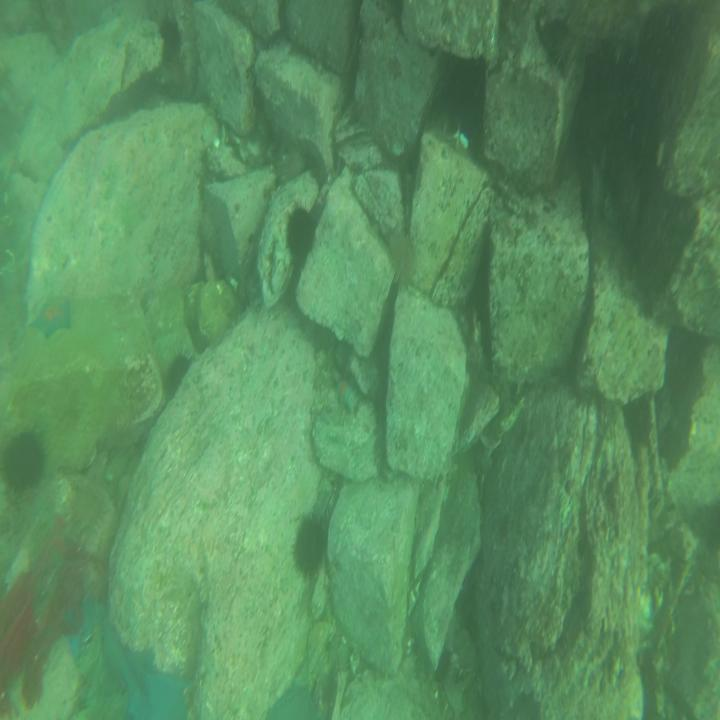echinus: (291, 505, 330, 584), (0, 428, 43, 491), (384, 226, 417, 294), (284, 202, 318, 262), (163, 350, 196, 403), (156, 14, 184, 68)
starfish: (30, 293, 73, 335)
